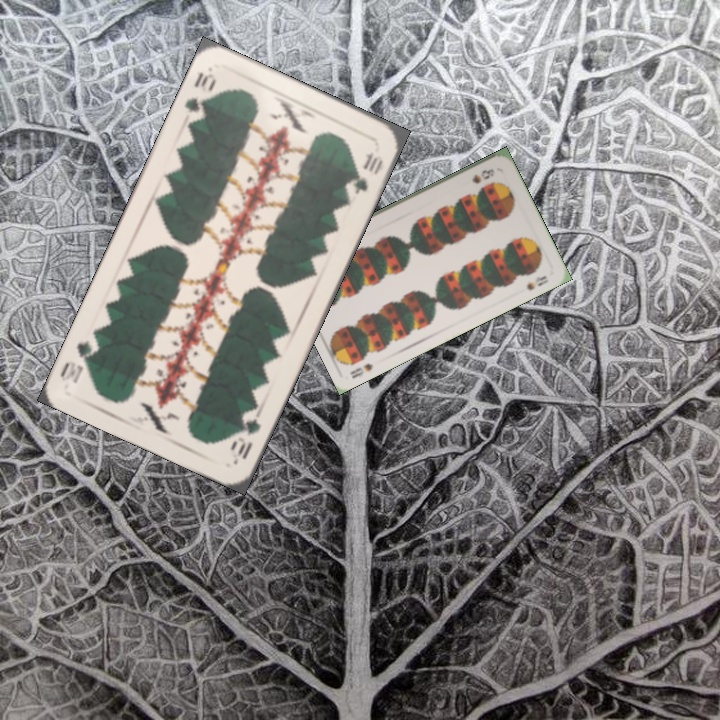G10: (180, 68, 219, 125), (227, 405, 264, 462)
S8: (468, 164, 497, 186), (346, 359, 375, 381)
